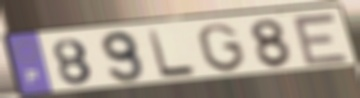8: (248, 18, 295, 69), (52, 38, 95, 87)
9: (98, 29, 148, 86)
E: (288, 12, 353, 68)
G: (195, 22, 249, 73)
L: (145, 28, 200, 81)
